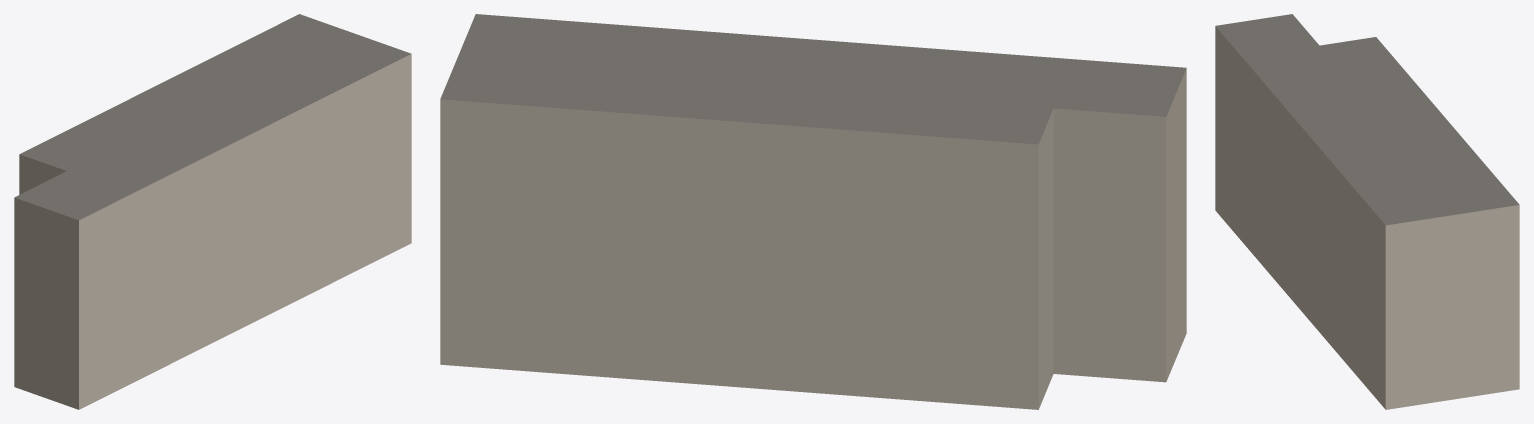
3 views of the same model, side by side, from view 1: azimuth 30°, elevation 25°; view 2: azimuth 150°, elevation 25°; view 3: azimuth 270°, elevation 25° (orthographic). The views are drawn at different scales.
Visible parts, largest first — view 1: HP-w380339895; view 2: HP-w380339895; view 3: HP-w380339895.
Boxes of the visible parts, x1,y1,x2,y2 form: HP-w380339895: [14, 14, 411, 409]; HP-w380339895: [440, 14, 1186, 409]; HP-w380339895: [1215, 14, 1519, 409].
Bounding box in the file's own units: 44.25 × 18 × 26.92.
